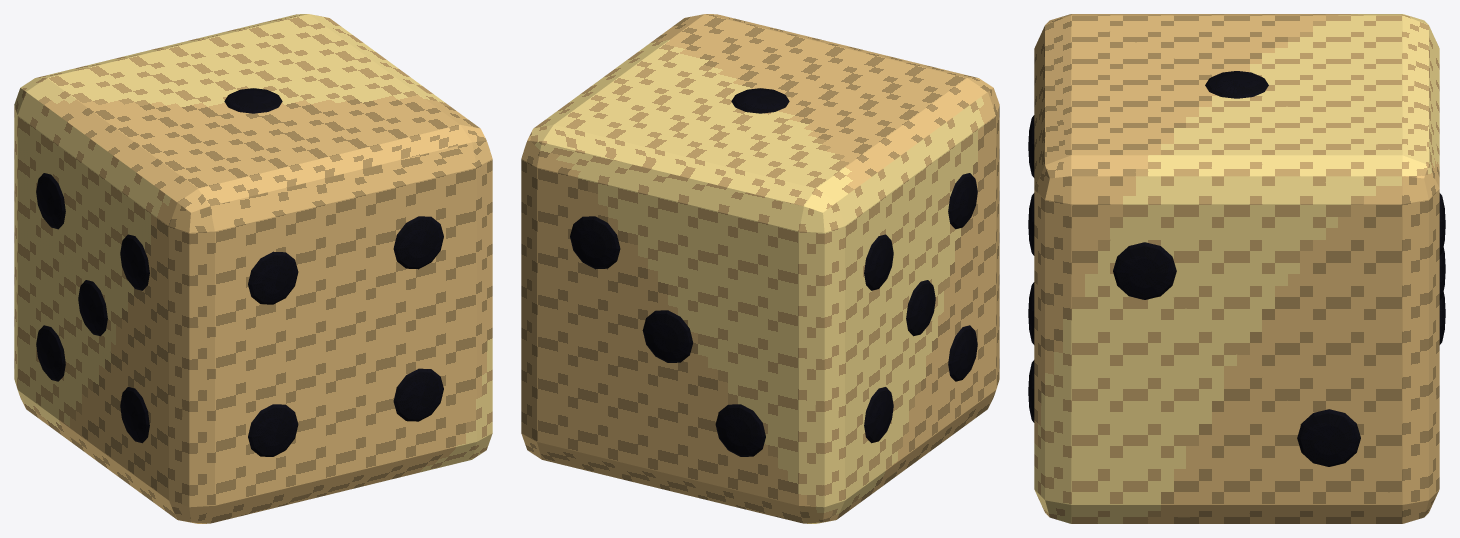
File: Die.glb
3 views of the same model, side by side, from view 1: azimuth 30°, elevation 25°; view 2: azimuth 150°, elevation 25°; view 3: azimuth 270°, elevation 25° (orthographic). The views are drawn at different scales.
Parts seen in each view (by area): view 1: Die; view 2: Die; view 3: Die.
Boxes of the visible parts, <box> form: Die: <box>14,14,492,523</box>; Die: <box>521,14,999,523</box>; Die: <box>1028,14,1445,523</box>.
Size of the model in its own units: 0.0227 by 0.0227 by 0.0227.
2 materials, 2 textured.
